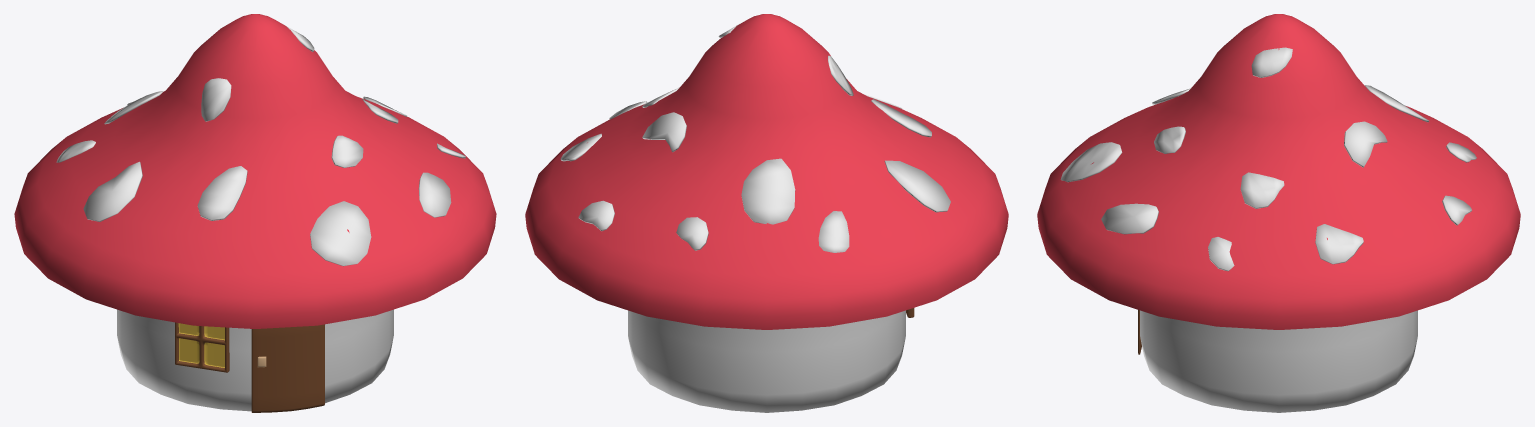
The model's file is mushhouse_red.glb.
3 renders of one model, left to right at view 1: azimuth 30°, elevation 25°; view 2: azimuth 150°, elevation 25°; view 3: azimuth 270°, elevation 25°, orthographic.
Visible parts, largest first — view 1: CapColor, House, Cap Spots, Window; view 2: CapColor, House, Cap Spots; view 3: CapColor, House, Cap Spots.
Part boxes in pixels (x1,y1,x2,y2): CapColor: (14, 14, 496, 328); House: (117, 309, 393, 412); Cap Spots: (56, 25, 465, 266); Window: (175, 322, 229, 372); CapColor: (525, 14, 1008, 329); House: (628, 310, 905, 412); Cap Spots: (560, 23, 950, 252); CapColor: (1037, 14, 1520, 329); House: (1138, 310, 1417, 412); Cap Spots: (1060, 47, 1476, 271).
Size of the model in its own units: 6.65 by 5.25 by 6.65.
